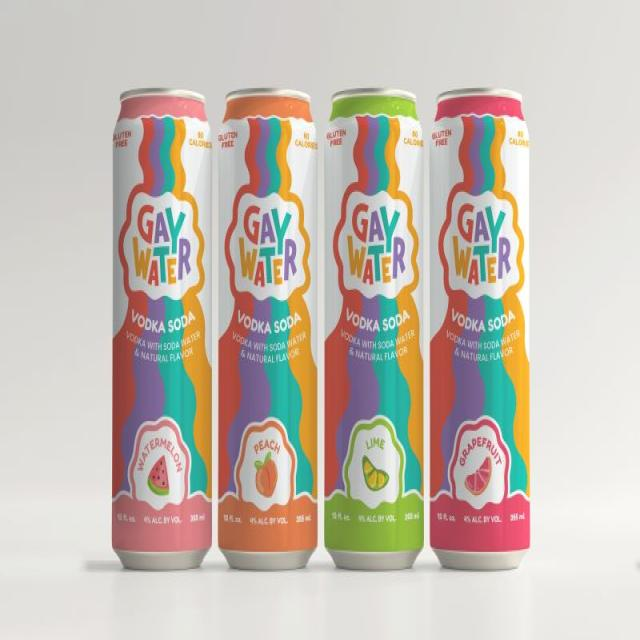Cans: (430, 84, 536, 573), (110, 88, 213, 575), (216, 87, 319, 573), (324, 85, 426, 573)
